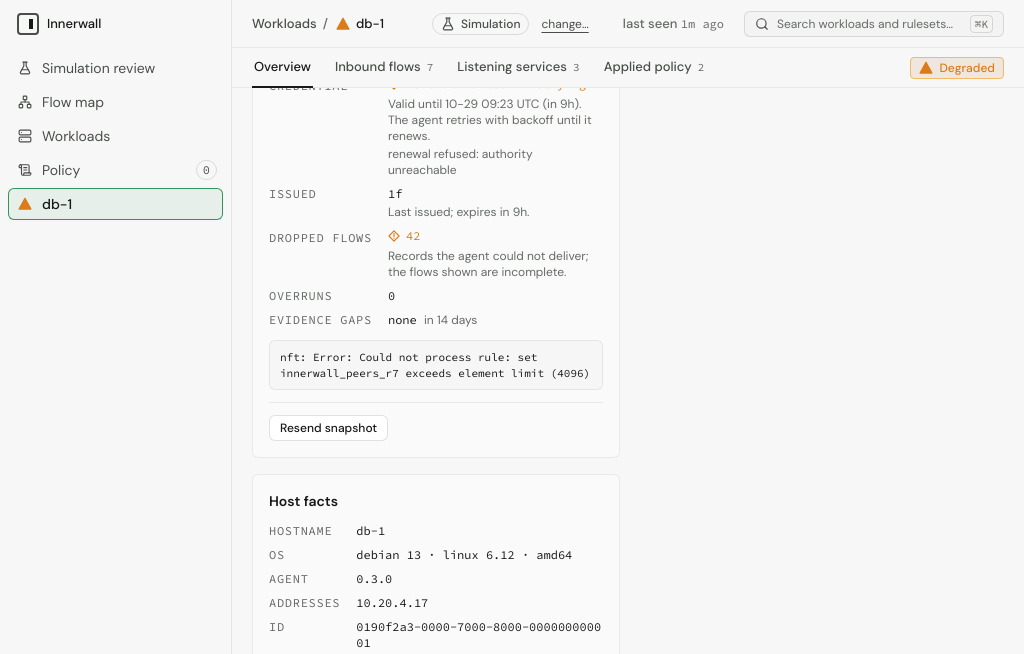
Scenario: resend snapshot › renders the offline refusal with the instant the agent was last seen
(page scrolled)
Click the button "Resend snapshot": {"x": 329, "y": 428} [269,415,388,441]
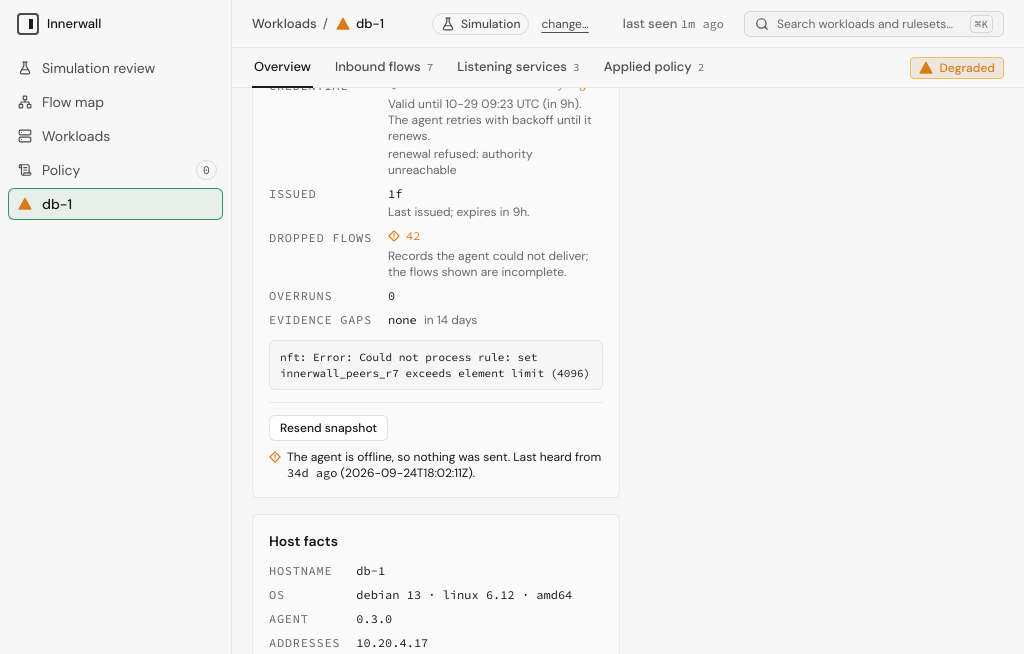
expect the message shows "The agent is offline, so nothing was sent.": met, box [287,449,510,465]
